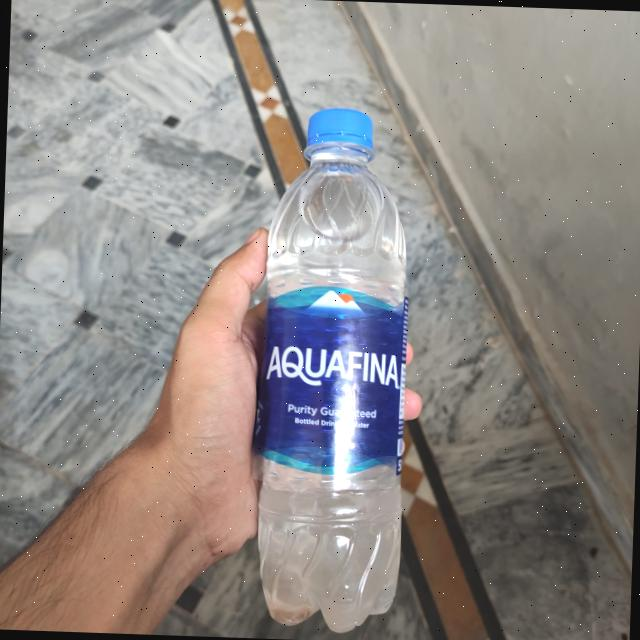bottle: (239, 108, 422, 640)
cap: (304, 101, 384, 162)
label: (248, 300, 409, 467)
